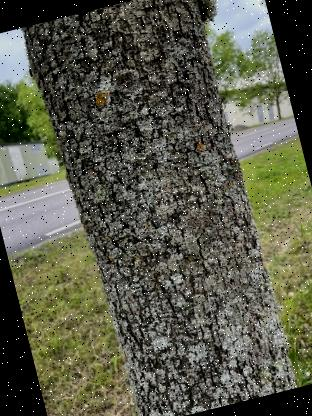tree: (17, 0, 306, 416)
